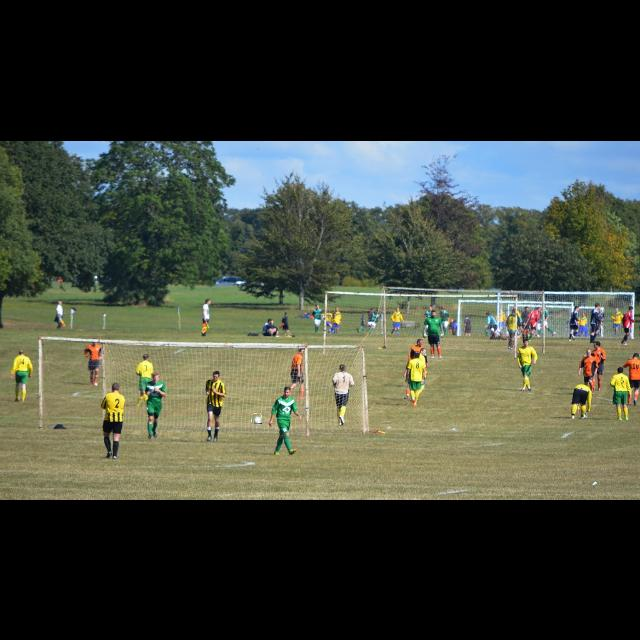Football: (252, 414, 262, 424)
